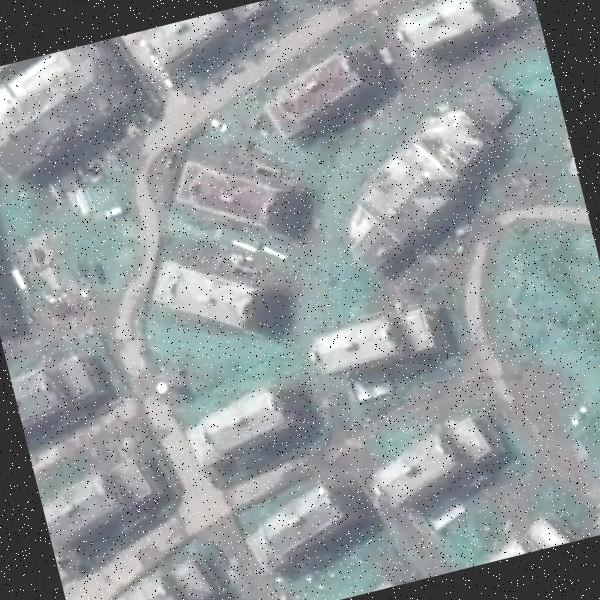Buildings: (308, 82, 538, 284), (0, 40, 153, 168), (150, 238, 284, 352), (366, 412, 514, 512), (34, 446, 172, 548), (234, 481, 373, 569), (136, 0, 277, 81), (171, 135, 280, 239), (312, 299, 443, 378), (9, 347, 118, 426), (260, 54, 383, 124), (186, 388, 302, 460), (476, 489, 580, 562), (401, 0, 532, 57), (87, 558, 228, 600)
